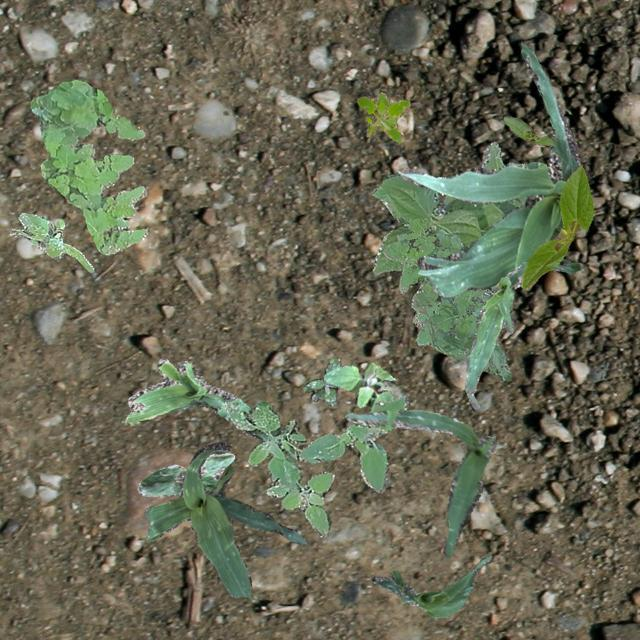crop: (396, 41, 578, 296), (144, 442, 306, 598), (372, 140, 522, 290), (344, 408, 496, 556), (464, 257, 580, 408), (124, 358, 268, 440), (520, 164, 592, 288), (370, 554, 490, 616), (136, 452, 234, 496), (502, 116, 552, 144)
weed: (224, 394, 408, 536), (382, 218, 510, 380), (30, 79, 146, 254), (8, 212, 92, 272), (322, 362, 394, 409), (356, 91, 409, 142), (303, 358, 339, 404)
